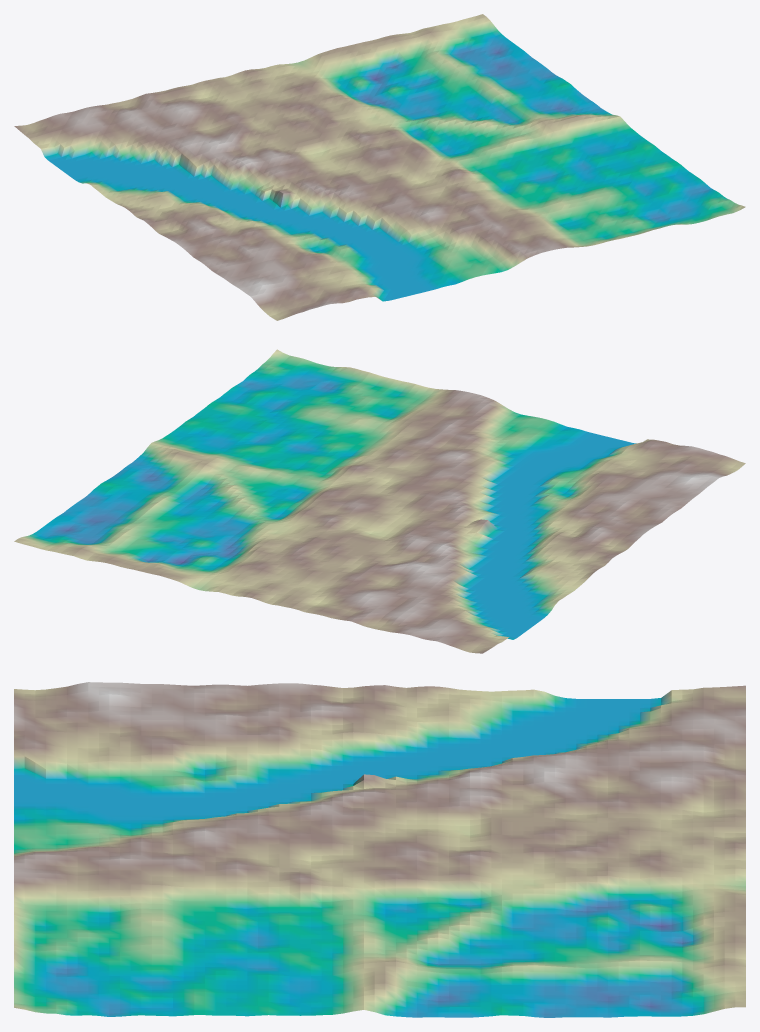
File: 002154_terrain_only.glb
3 renders of one model, top to bottom at view 1: azimuth 30°, elevation 25°; view 2: azimuth 150°, elevation 25°; view 3: azimuth 270°, elevation 25°, orthographic. The views are drawn at different scales.
Parts seen in each view (by area): view 1: terrain; view 2: terrain; view 3: terrain.
Boxes of the visible parts, x1,y1,x2,y2 form: terrain: (14,14,745,320); terrain: (14,349,745,653); terrain: (14,682,745,1017).
Bounding box in the file's own units: 0.0191 × 0.000585 × 0.0186.
